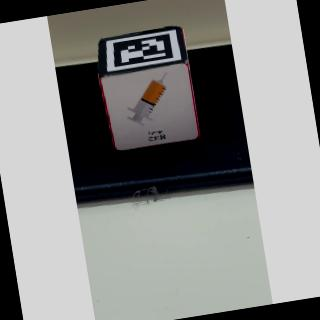Syringe: (99, 59, 204, 156)
